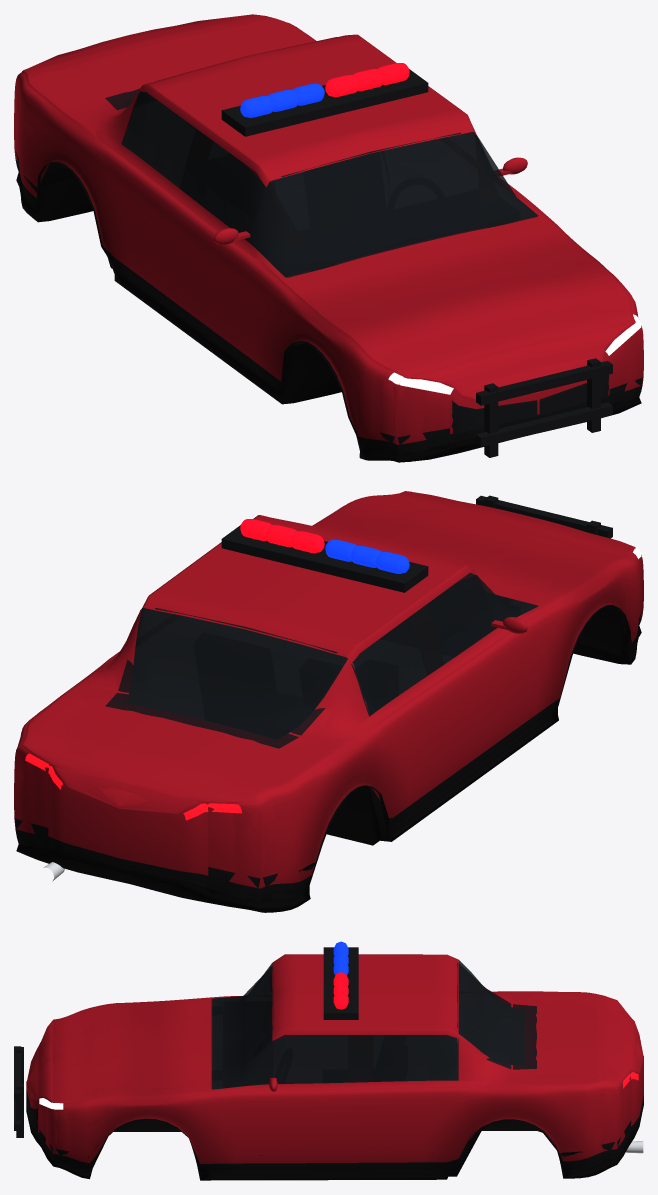
The model's file is interceptor.glb.
3 views of the same model, one above another, from view 1: azimuth 30°, elevation 25°; view 2: azimuth 150°, elevation 25°; view 3: azimuth 270°, elevation 25° (orthographic). The views are drawn at different scales.
Visible parts, largest first — view 1: body (×2), pushbar, lightbar_base, grille, lightbar_blue, lightbar_red, headlights, mirrors; view 2: body (×2), lightbar_base, lightbar_blue, lightbar_red, pushbar; view 3: body (×2), lightbar_base, pushbar, lightbar_red, lightbar_blue.
Part boxes in pixels (x1=…): body (×2): x1=14, y1=14, x2=643, y2=462; pushbar: x1=476, y1=358, x2=612, y2=457; lightbar_base: x1=221, y1=69, x2=428, y2=136; grille: x1=451, y1=374, x2=608, y2=434; lightbar_blue: x1=240, y1=83, x2=324, y2=117; lightbar_red: x1=325, y1=63, x2=409, y2=97; headlights: x1=388, y1=314, x2=641, y2=394; mirrors: x1=214, y1=157, x2=527, y2=244; body (×2): x1=14, y1=491, x2=643, y2=912; lightbar_base: x1=221, y1=525, x2=428, y2=592; lightbar_blue: x1=325, y1=539, x2=409, y2=573; lightbar_red: x1=240, y1=519, x2=324, y2=553; pushbar: x1=476, y1=495, x2=612, y2=538; body (×2): x1=26, y1=954, x2=643, y2=1180; lightbar_base: x1=323, y1=947, x2=358, y2=1019; pushbar: x1=14, y1=1046, x2=23, y2=1137; lightbar_red: x1=333, y1=972, x2=348, y2=1009; lightbar_blue: x1=333, y1=941, x2=348, y2=975.
Bounding box in the file's own units: 2.14 × 1.45 × 5.05.
